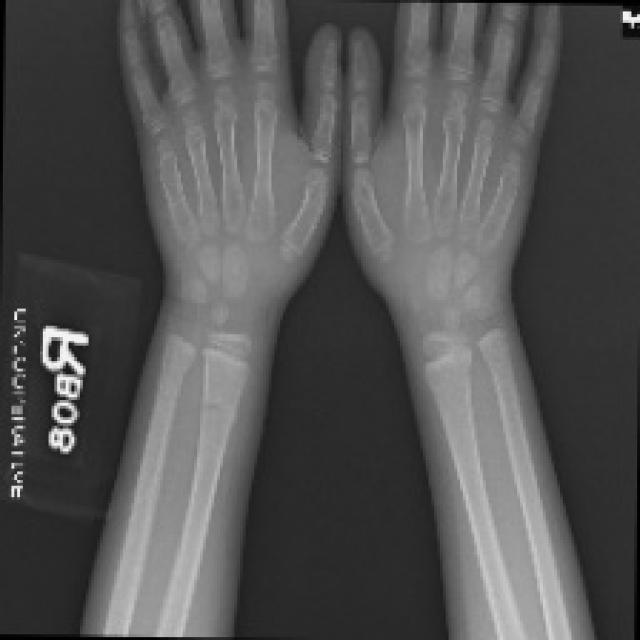fracture: (187, 368, 253, 466)
